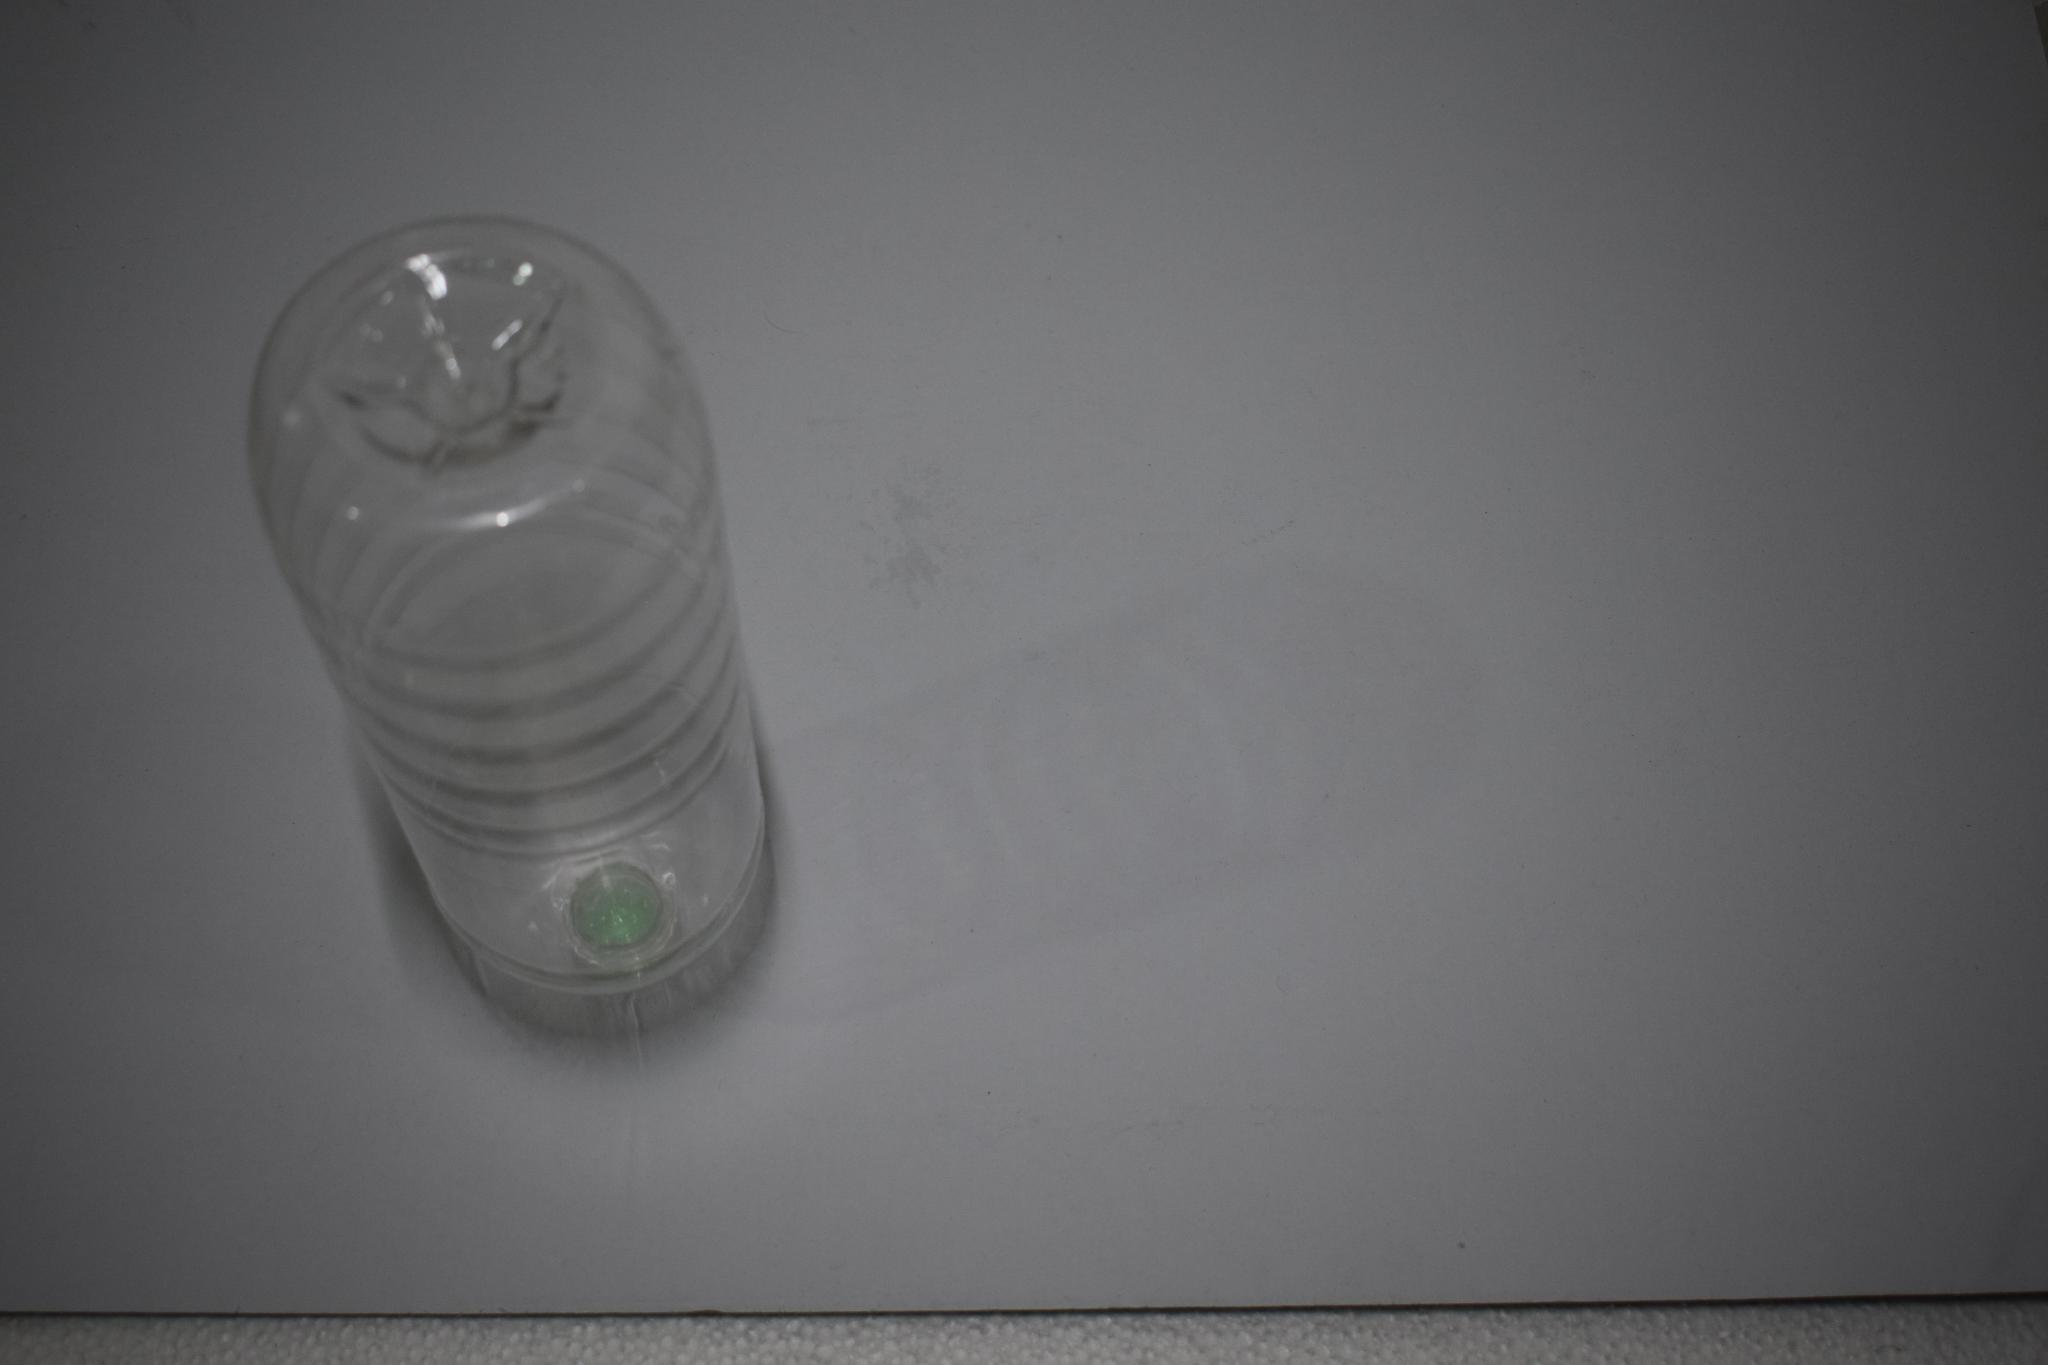bottle: (222, 195, 842, 1045)
